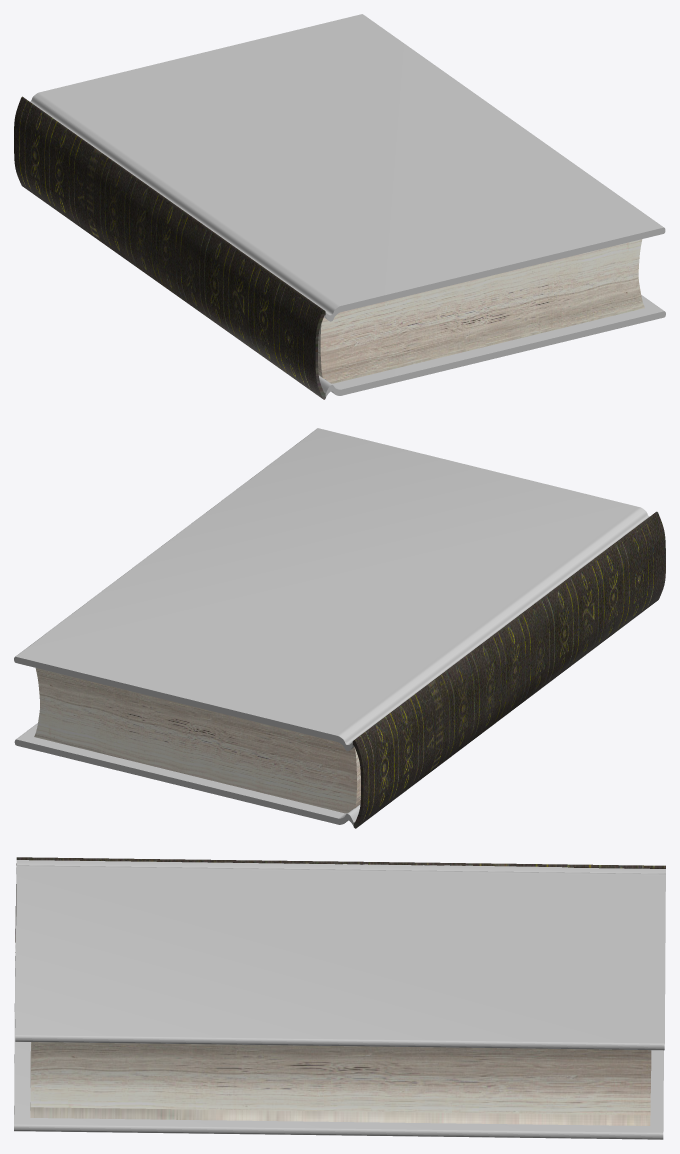
File: BookNew.fbx
The picture shows the model from 3 angles, top to bottom: view 1: azimuth 30°, elevation 25°; view 2: azimuth 150°, elevation 25°; view 3: azimuth 270°, elevation 25°; orthographic projection. The views are drawn at different scales.
Visible parts, largest first — view 1: polySurface2; view 2: polySurface2; view 3: polySurface2.
Part boxes in pixels (x1,y1,x2,y2): polySurface2: [14, 14, 665, 399]; polySurface2: [14, 428, 665, 828]; polySurface2: [14, 857, 665, 1139].
Size of the model in its own units: 1.96 by 0.5191 by 2.94.
